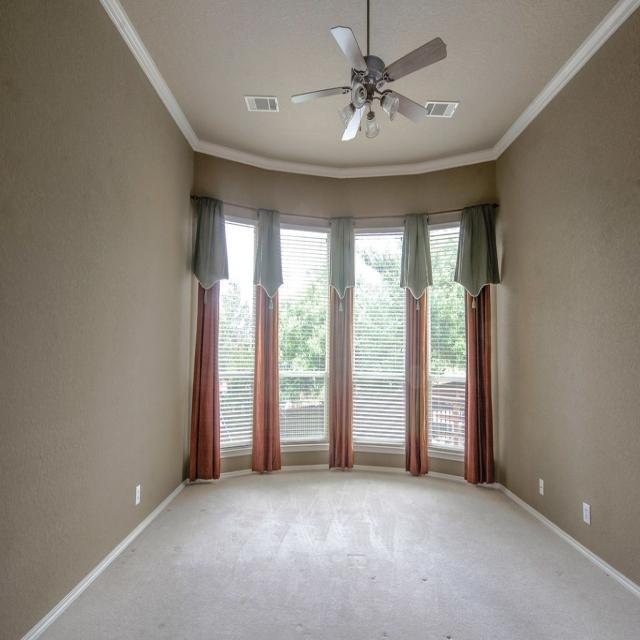fan_off: (287, 0, 450, 142)
